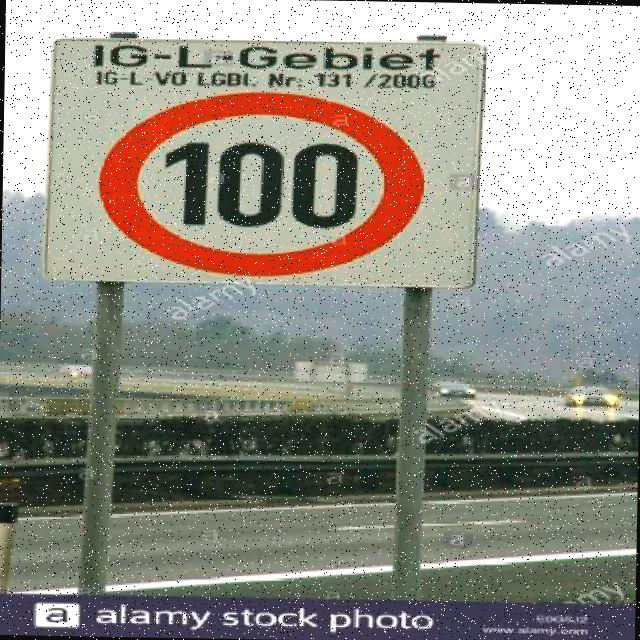Ograniczenie predkosci do 100: (98, 93, 420, 276)
